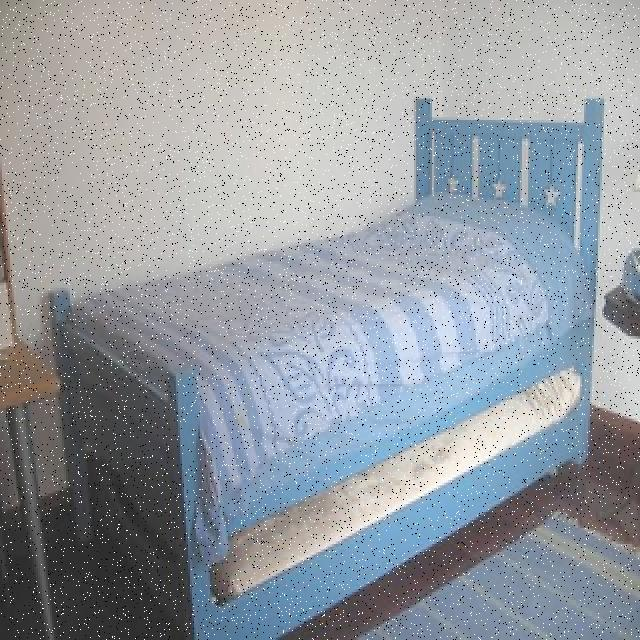bed: (51, 109, 594, 638)
